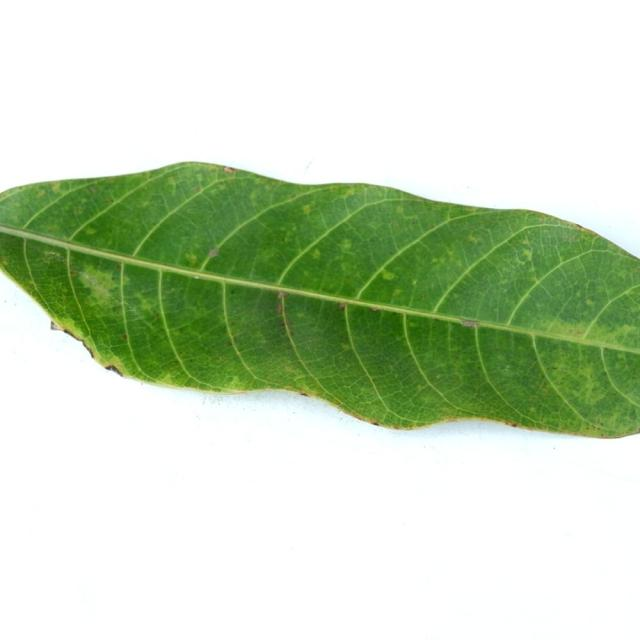Mango: (0, 163, 639, 437)
Powdery_Mildew: (566, 316, 640, 356), (76, 259, 127, 304), (548, 227, 589, 247), (298, 246, 327, 266), (376, 263, 399, 288), (515, 246, 534, 262), (430, 254, 451, 267), (280, 229, 297, 245), (226, 375, 242, 387), (185, 253, 198, 267), (338, 238, 352, 251), (107, 365, 122, 377), (45, 251, 63, 260), (83, 225, 98, 235), (468, 233, 482, 243), (208, 247, 219, 258), (51, 181, 62, 192), (151, 310, 161, 322), (166, 177, 176, 187), (50, 320, 60, 330), (283, 318, 292, 329), (405, 214, 418, 221), (223, 166, 236, 173), (36, 189, 46, 198), (340, 343, 352, 350), (302, 205, 311, 214), (469, 321, 480, 328), (396, 205, 404, 213), (277, 291, 285, 299), (586, 299, 595, 306), (408, 321, 417, 328), (88, 186, 97, 193), (69, 269, 78, 276), (572, 330, 584, 335), (297, 391, 309, 396), (227, 337, 235, 344), (1, 258, 8, 266), (338, 303, 346, 310), (277, 303, 282, 314), (369, 307, 379, 312), (370, 420, 380, 425), (508, 422, 518, 427), (392, 424, 402, 429), (411, 279, 418, 286), (193, 186, 200, 193), (105, 199, 113, 204), (178, 327, 184, 333), (421, 293, 427, 299), (598, 420, 604, 426), (460, 320, 465, 326), (551, 366, 558, 370), (122, 335, 127, 340), (280, 238, 285, 243), (230, 289, 235, 294), (193, 275, 199, 279), (504, 365, 510, 369), (637, 266, 640, 273), (174, 360, 179, 364), (477, 366, 482, 370)
